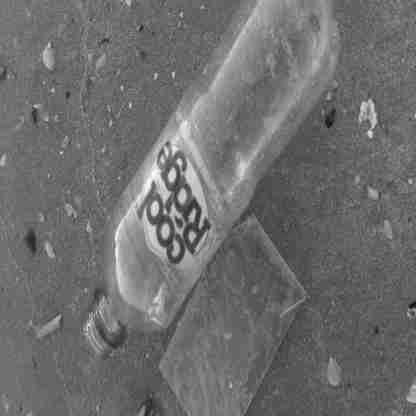plastic: (78, 1, 344, 357)
